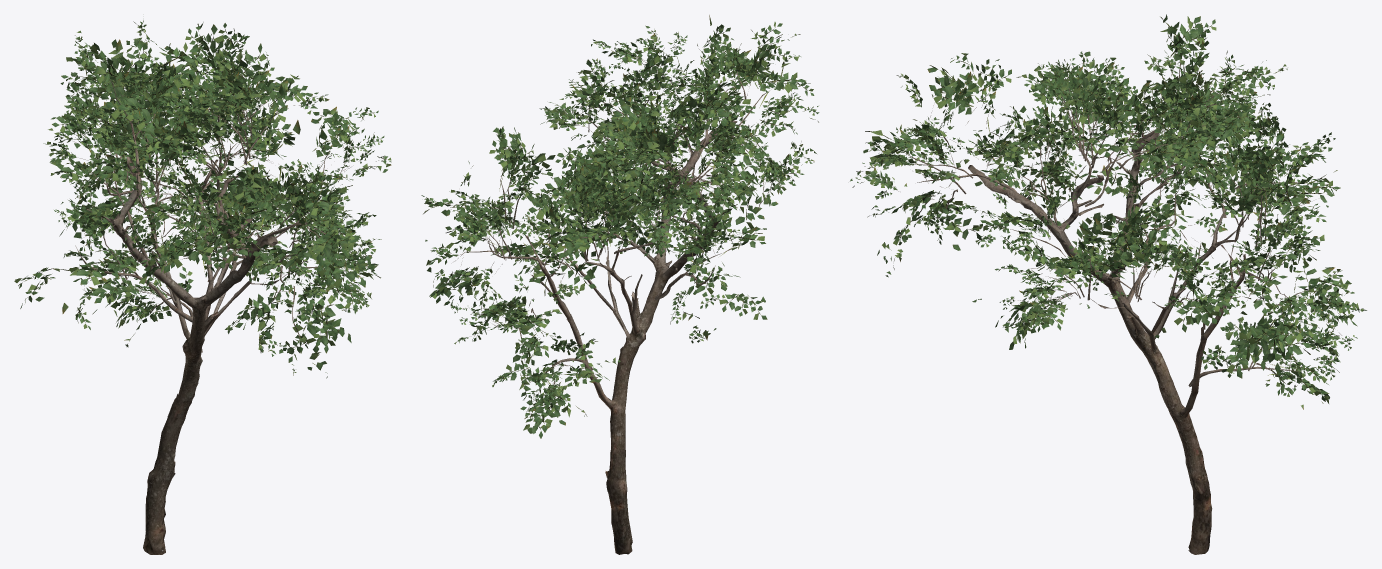
File: tree_small_02.glb
3 views of the same model, side by side, from view 1: azimuth 30°, elevation 25°; view 2: azimuth 150°, elevation 25°; view 3: azimuth 270°, elevation 25° (orthographic). The views are drawn at different scales.
Visible parts, largest first — view 1: tree_small_02_web; view 2: tree_small_02_web; view 3: tree_small_02_web.
Boxes of the visible parts, x1,y1,x2,y2 form: tree_small_02_web: (14, 20, 391, 554); tree_small_02_web: (421, 15, 819, 554); tree_small_02_web: (850, 14, 1366, 554).
Bounding box in the file's own units: 3 × 4.62 × 4.31.
Materials: 3 (3 with a texture image).
